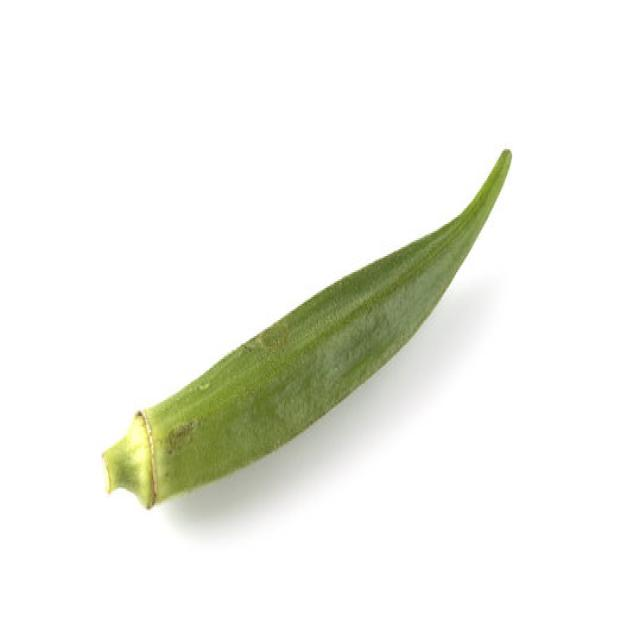Okra: (101, 146, 512, 510)
